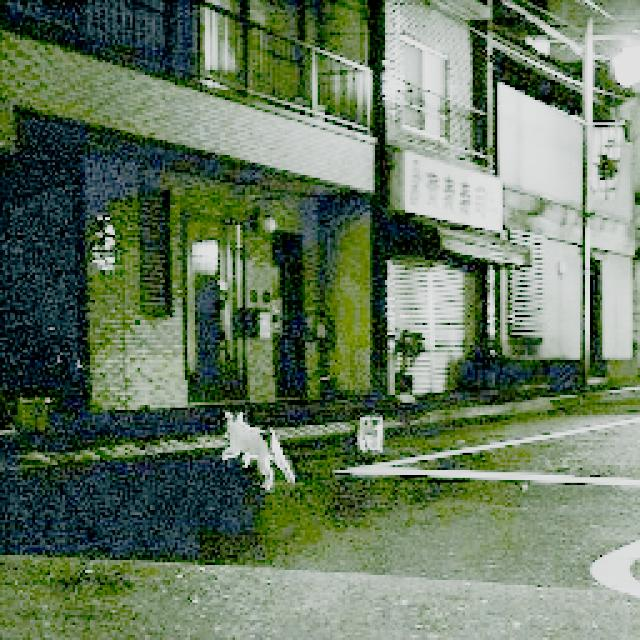cat: (212, 396, 306, 501)
